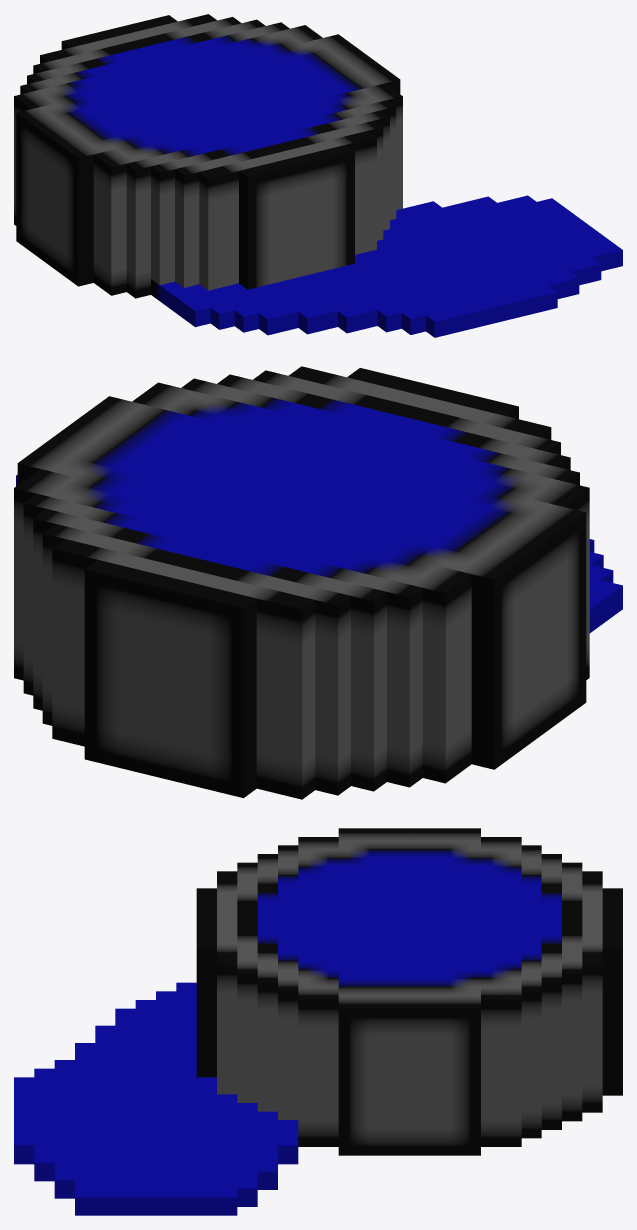
File: waterbucket2.fbx
3 renders of one model, top to bottom at view 1: azimuth 30°, elevation 25°; view 2: azimuth 150°, elevation 25°; view 3: azimuth 270°, elevation 25°, orthographic. The views are drawn at different scales.
Parts seen in each view (by area): view 1: Matrix; view 2: Matrix; view 3: Matrix.
Boxes of the visible parts, box(x1,y1,x2,y2) form: Matrix: box(14, 14, 622, 337); Matrix: box(14, 366, 622, 799); Matrix: box(14, 828, 622, 1215).
Bounding box in the file's own units: 28 × 8 × 30.
Materials: 1 (1 with a texture image).
